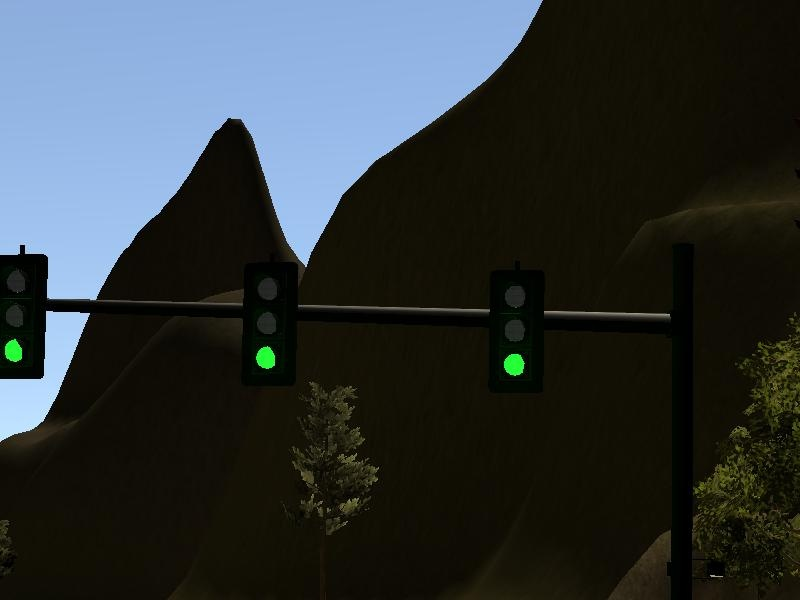GREEN: (242, 267, 300, 382), (490, 268, 542, 394), (1, 253, 48, 381)
